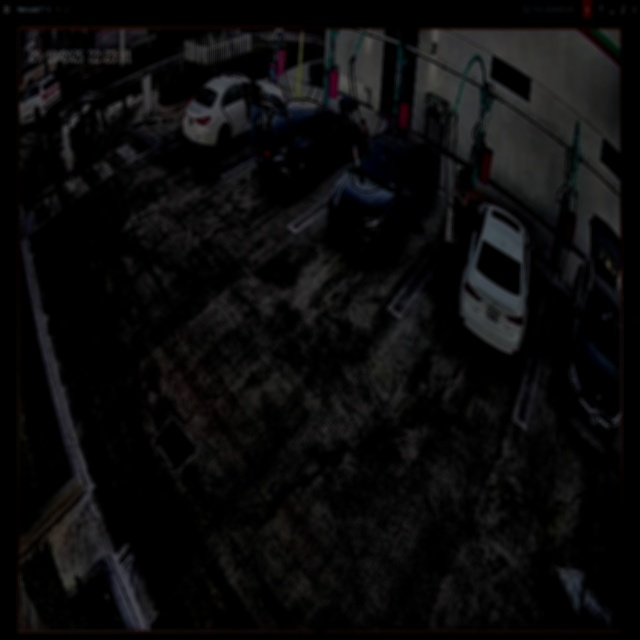Car: (445, 173, 535, 359), (328, 117, 444, 259), (258, 92, 370, 198), (184, 72, 285, 160)
